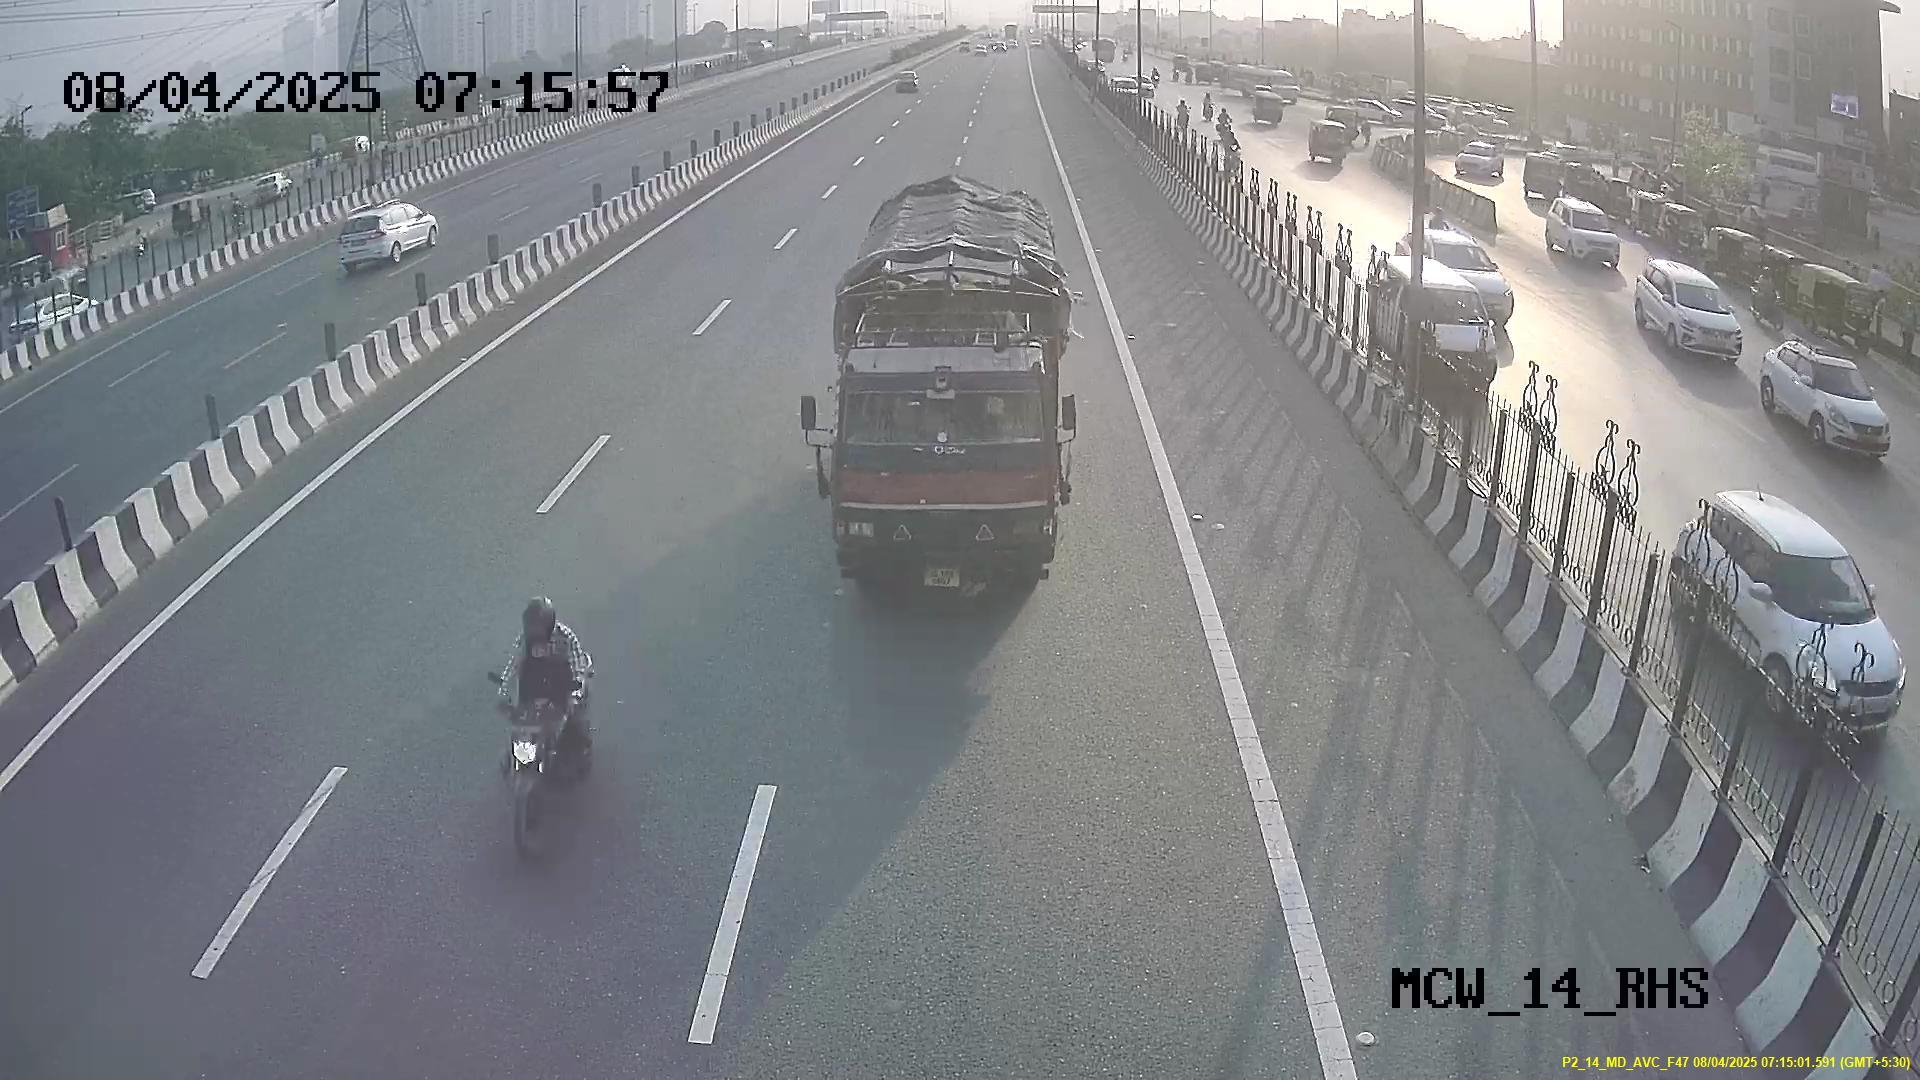bike: (481, 595, 604, 849)
lcv: (827, 347, 1067, 593)
